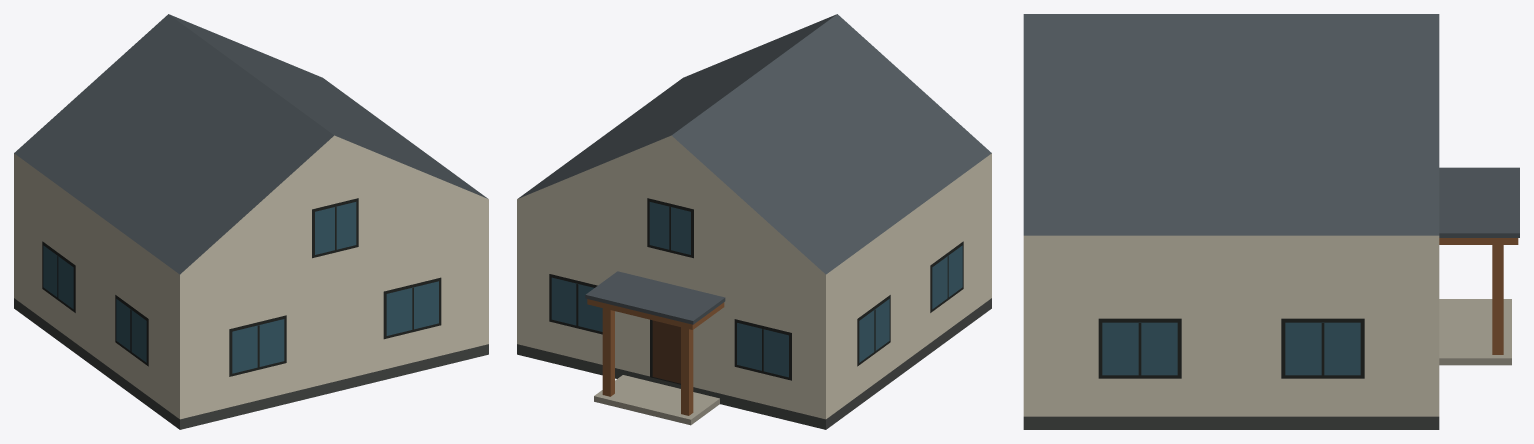
The picture shows the model from 3 angles, left to right: view 1: azimuth 30°, elevation 25°; view 2: azimuth 150°, elevation 25°; view 3: azimuth 270°, elevation 25°; orthographic projection. The views are drawn at different scales.
Size of the model in its own units: 8.74 by 6.83 by 9.62.
